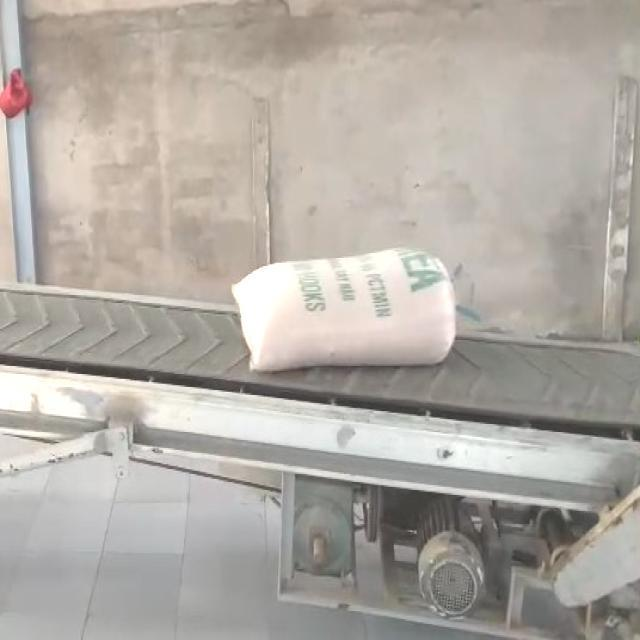gunny_bag: (233, 248, 457, 370)
